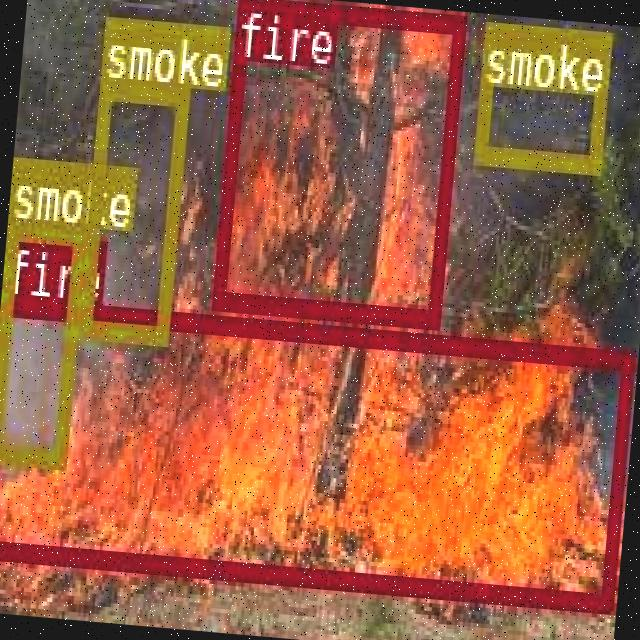fire: (0, 292, 630, 606), (211, 0, 463, 323)
smoke: (78, 76, 186, 341), (471, 19, 608, 170), (0, 218, 84, 464)
